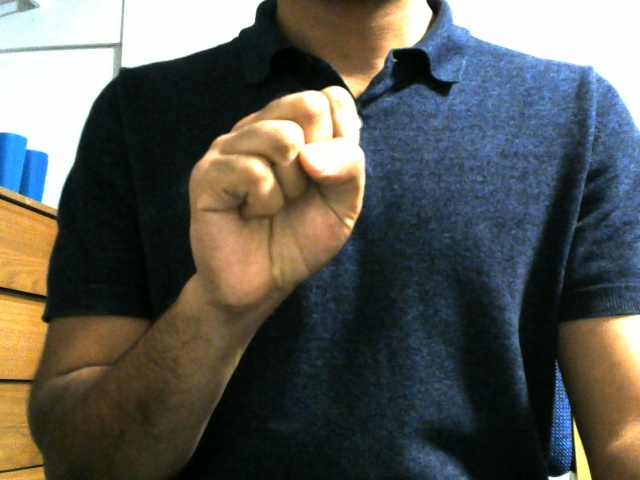S: (168, 70, 375, 301)
